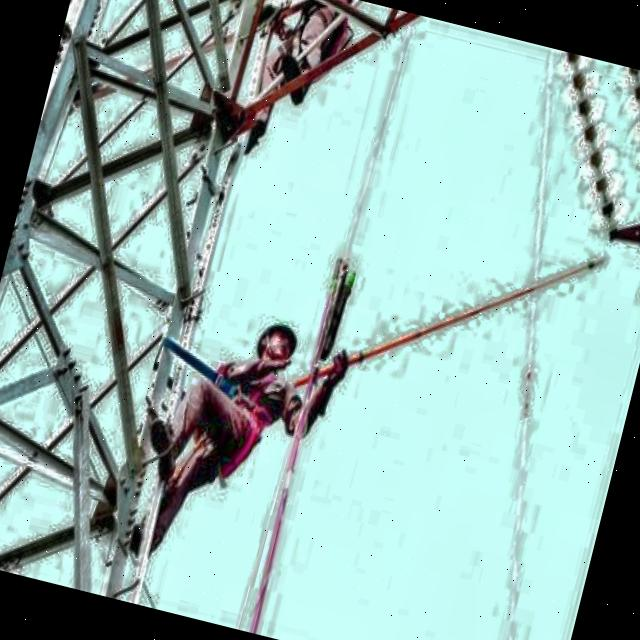helmet: (244, 303, 309, 382)
